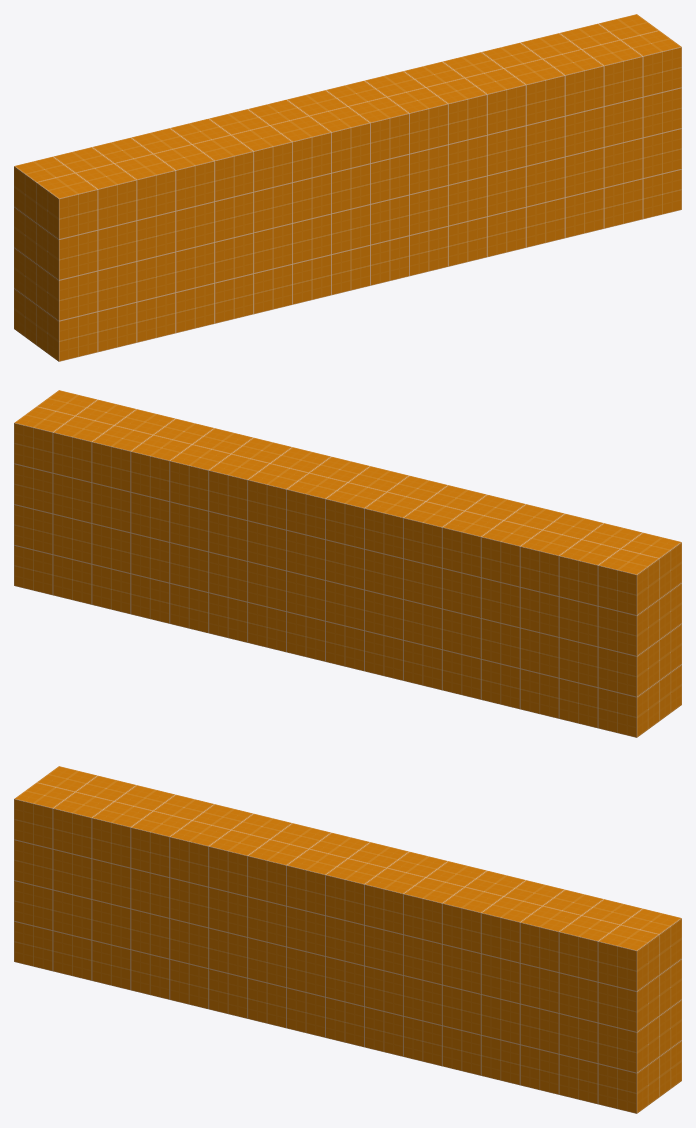
The model's file is Block_16x2x4.obj.
The picture shows the model from 3 angles, top to bottom: view 1: azimuth 30°, elevation 25°; view 2: azimuth 150°, elevation 25°; view 3: azimuth 330°, elevation 25°; orthographic projection.
Parts seen in each view (by area): view 1: Block_16x2x4_Cube.258; view 2: Block_16x2x4_Cube.258; view 3: Block_16x2x4_Cube.258.
Part boxes in pixels (<box>): Block_16x2x4_Cube.258: <box>14,14,681,361</box>; Block_16x2x4_Cube.258: <box>14,390,681,737</box>; Block_16x2x4_Cube.258: <box>14,766,681,1113</box>.
Size of the model in its own units: 16 by 4 by 2.
Materials: 1 (1 with a texture image).
